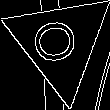O_E: (33, 17, 87, 68)
